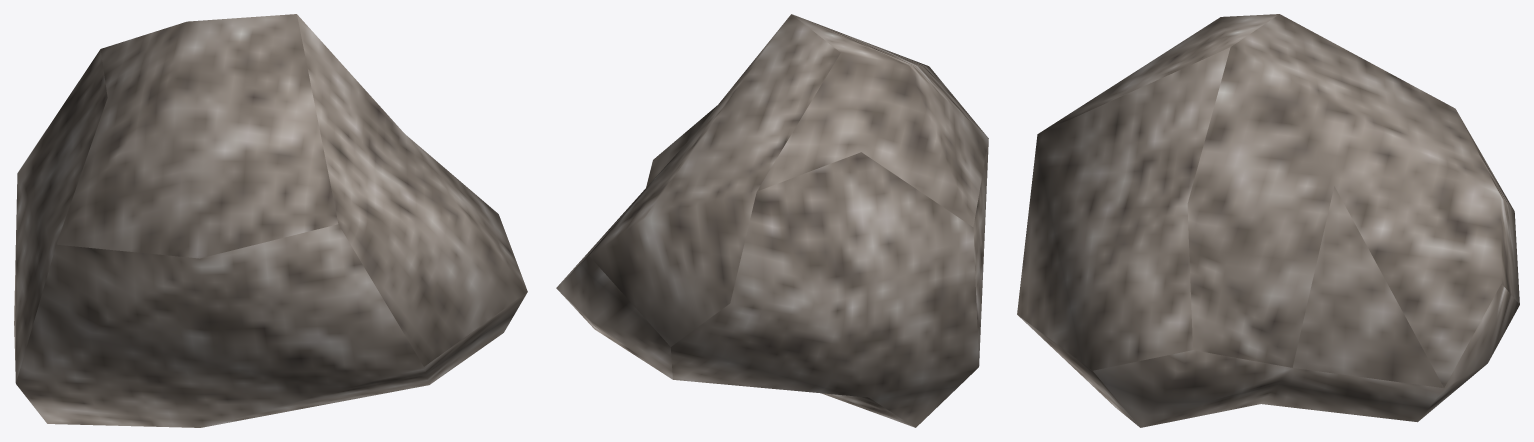
The model's file is mboulderreg_0.dae.
3 renders of one model, left to right at view 1: azimuth 30°, elevation 25°; view 2: azimuth 150°, elevation 25°; view 3: azimuth 270°, elevation 25°, orthographic. The views are drawn at different scales.
Visible parts, largest first — view 1: mboulderreg_0; view 2: mboulderreg_0; view 3: mboulderreg_0.
Boxes of the visible parts, left/top/right/bottom form: mboulderreg_0: left=14, top=14, right=527, bottom=427; mboulderreg_0: left=556, top=14, right=988, bottom=427; mboulderreg_0: left=1017, top=14, right=1519, bottom=427.
Bounding box in the file's own units: 1.68 × 1.78 × 1.48.
Materials: 1 (1 with a texture image).
